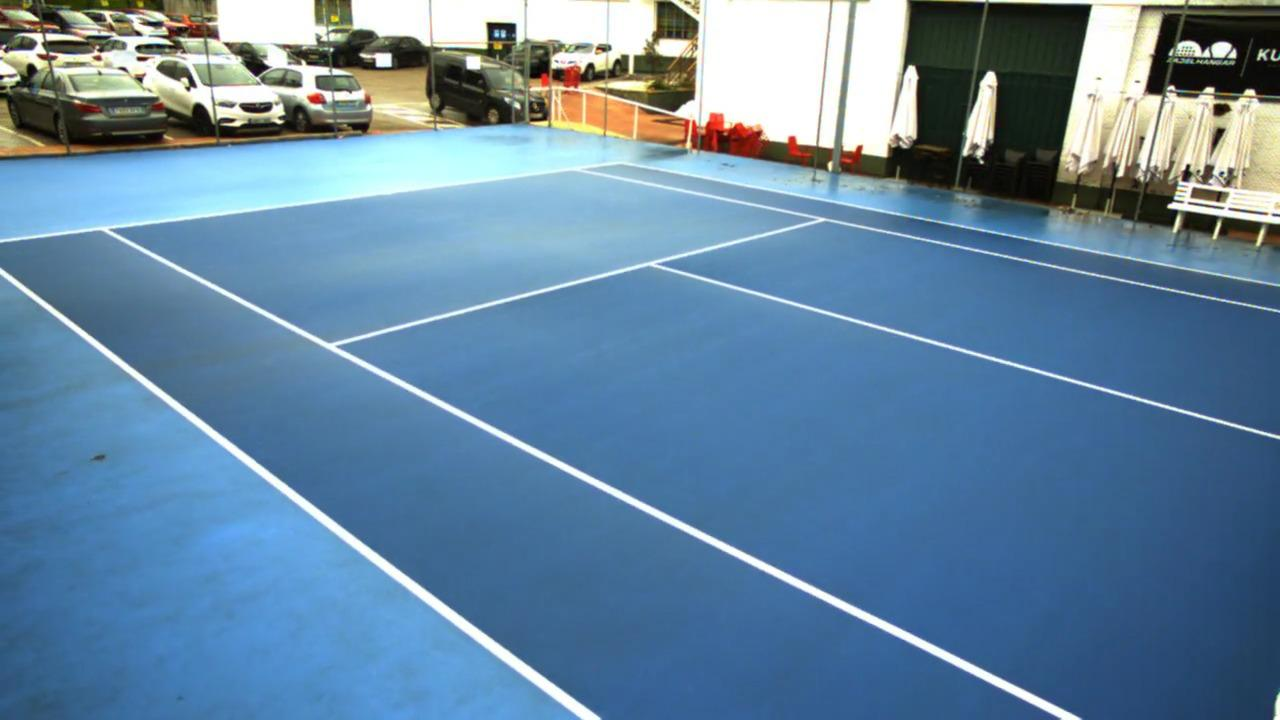cancha_tenis: (102, 166, 1280, 720)
point_f1: (95, 217, 118, 243)
point_f2: (569, 161, 593, 177)
point_i1: (314, 329, 349, 357)
point_i2: (801, 209, 834, 231)
point_ic1: (638, 248, 672, 275)
